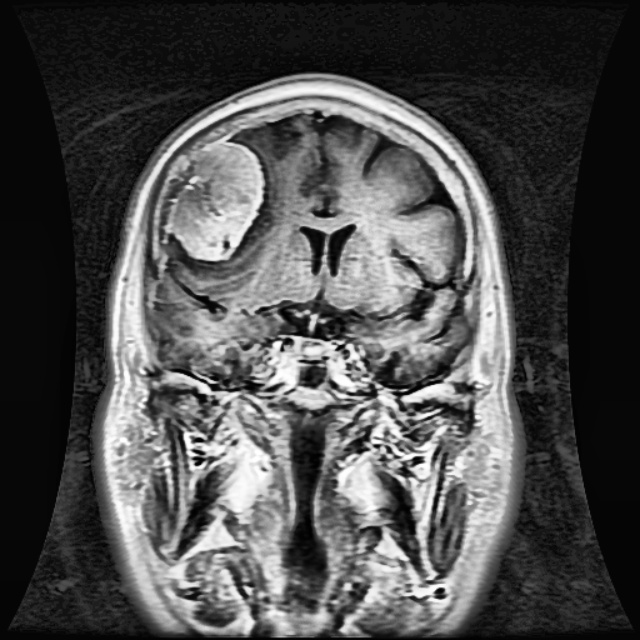Glioma: (170, 142, 263, 260)
